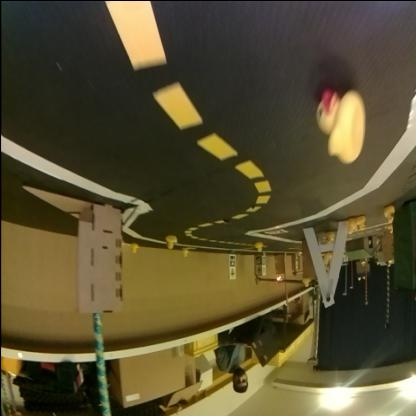Duckie: (318, 93, 364, 163), (384, 206, 394, 222), (347, 218, 356, 234), (357, 216, 366, 231), (166, 235, 176, 248), (132, 244, 138, 252), (256, 243, 262, 251), (183, 249, 188, 257)
Intersection sign: (228, 270, 234, 278)
QR code: (264, 227, 288, 235), (228, 257, 234, 266), (254, 257, 260, 265)
Traffic light: (276, 274, 282, 282)
